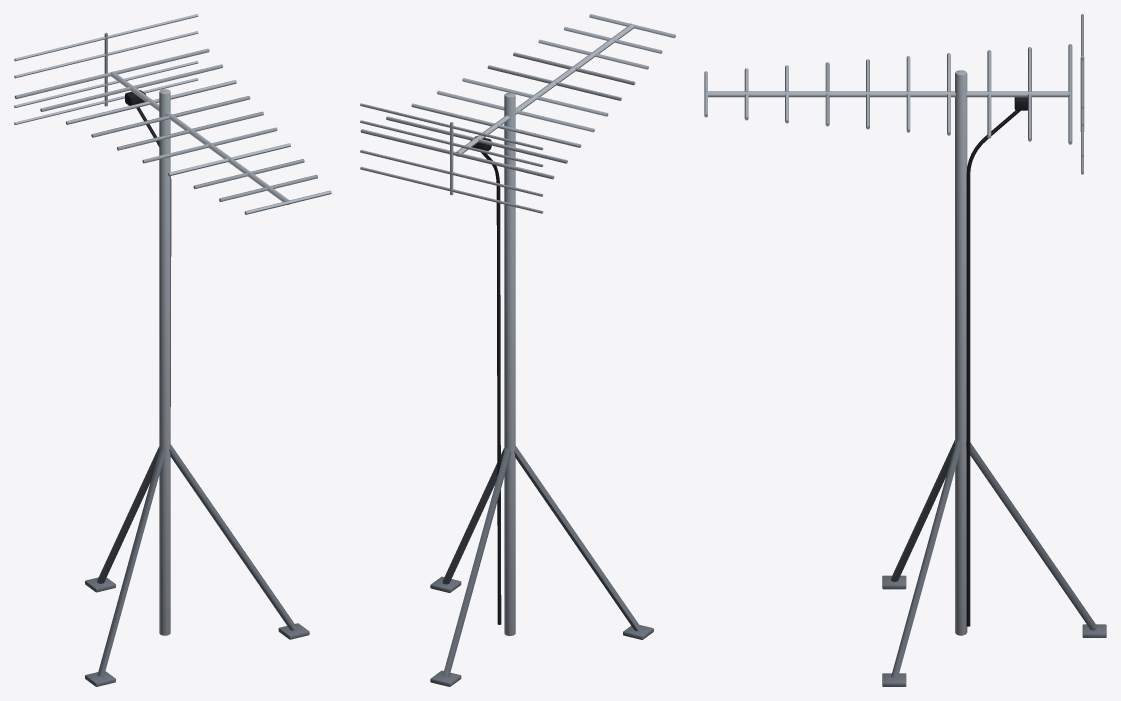
Rendered from antena_tv_espinha.glb.
3 views of the same model, side by side, from view 1: azimuth 30°, elevation 25°; view 2: azimuth 150°, elevation 25°; view 3: azimuth 270°, elevation 25° (orthographic). The views are drawn at different scales.
Visible parts, largest first — view 1: antena_tv_espinha; view 2: antena_tv_espinha; view 3: antena_tv_espinha.
Boxes of the visible parts, bbox=[...] form: antena_tv_espinha: bbox=[14, 14, 331, 686]; antena_tv_espinha: bbox=[360, 14, 675, 686]; antena_tv_espinha: bbox=[704, 14, 1106, 686].
Size of the model in its own units: 1.05 by 2.62 by 1.66.
1 material, 1 textured.
